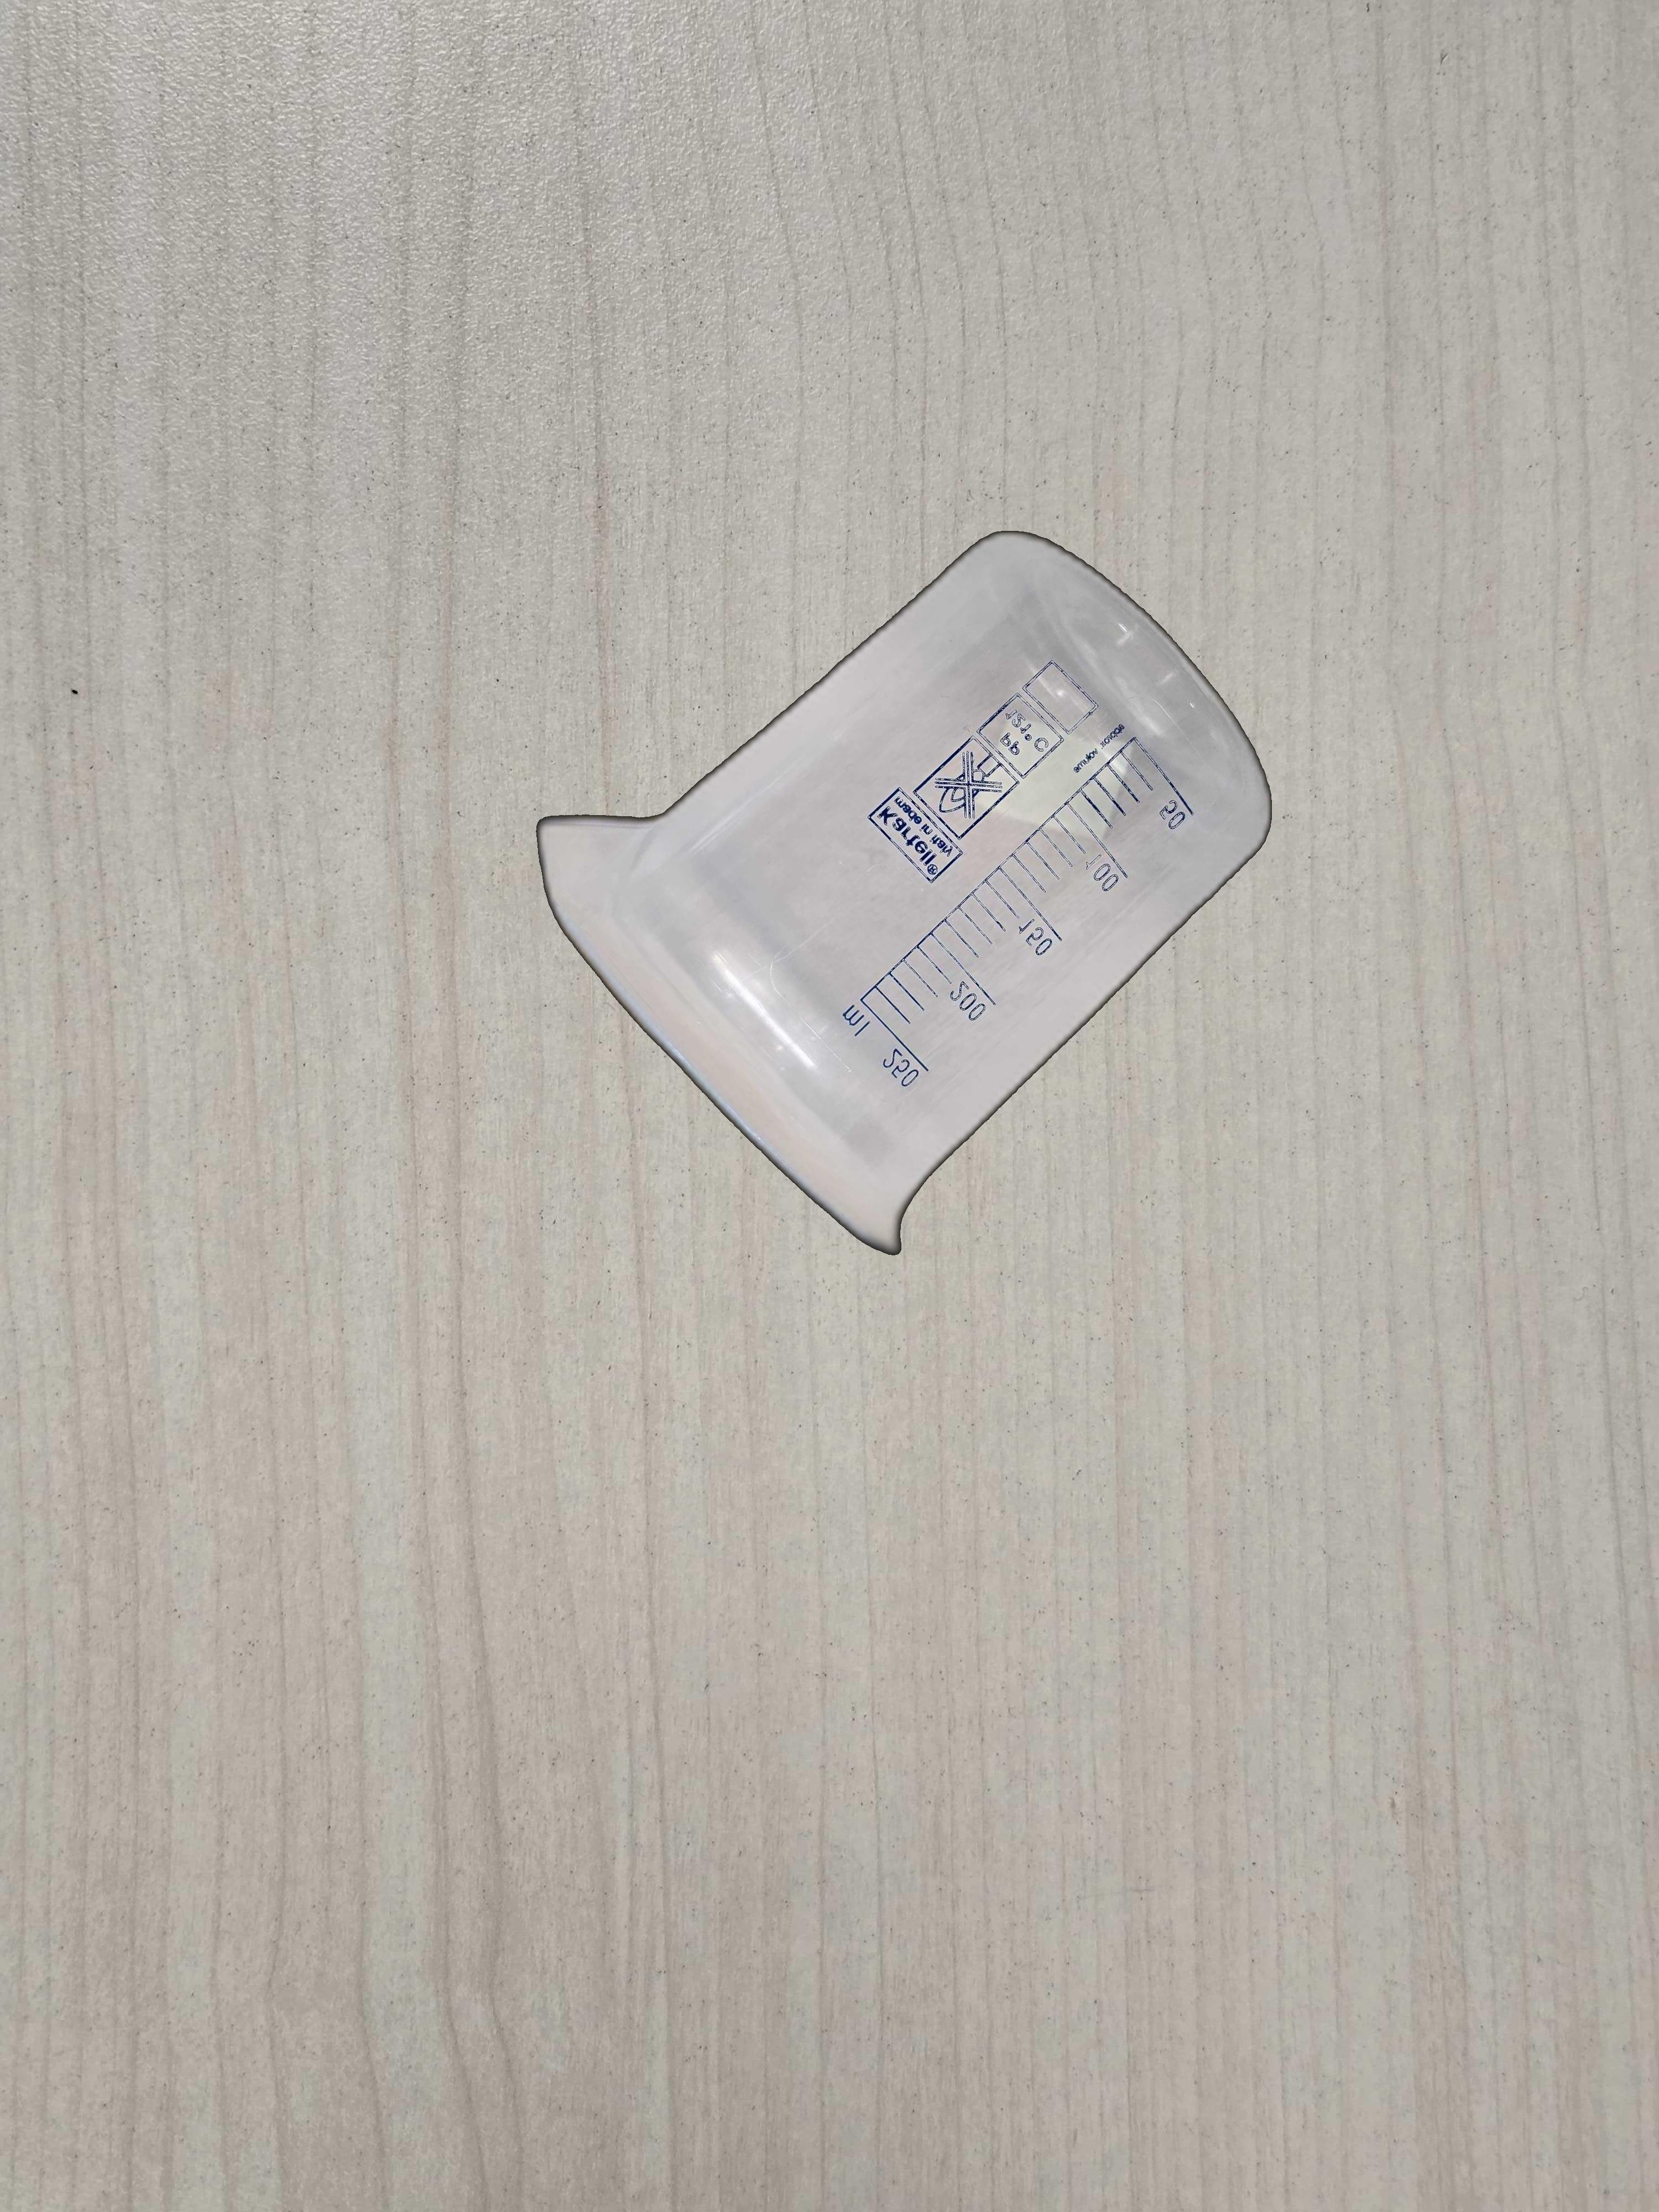becker: (533, 526, 1276, 1261)
